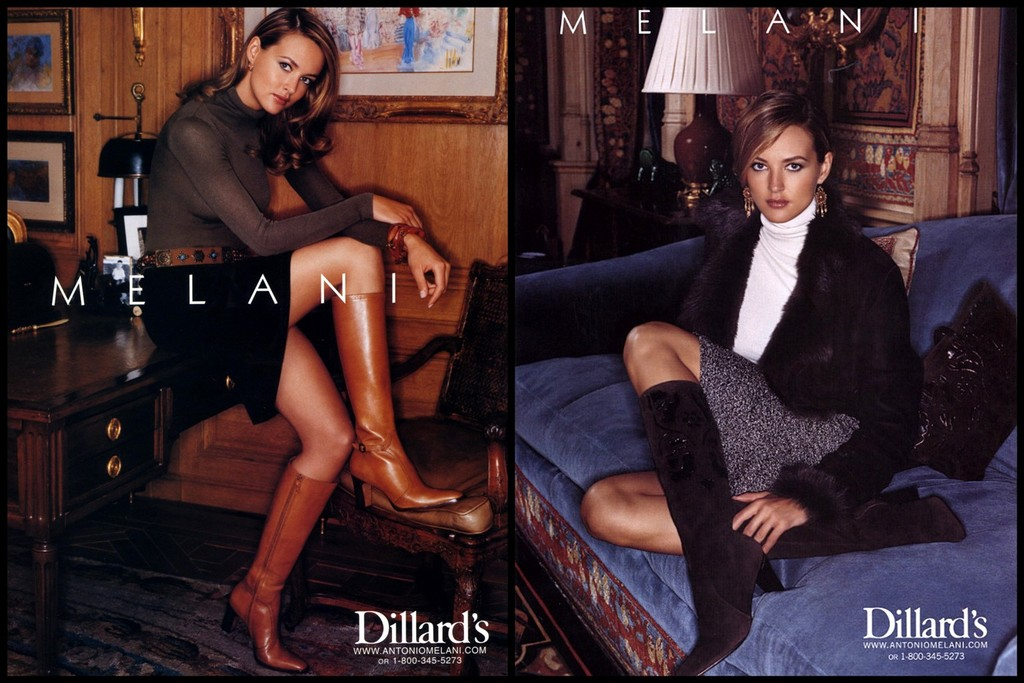Couch: (514, 213, 1019, 682)
